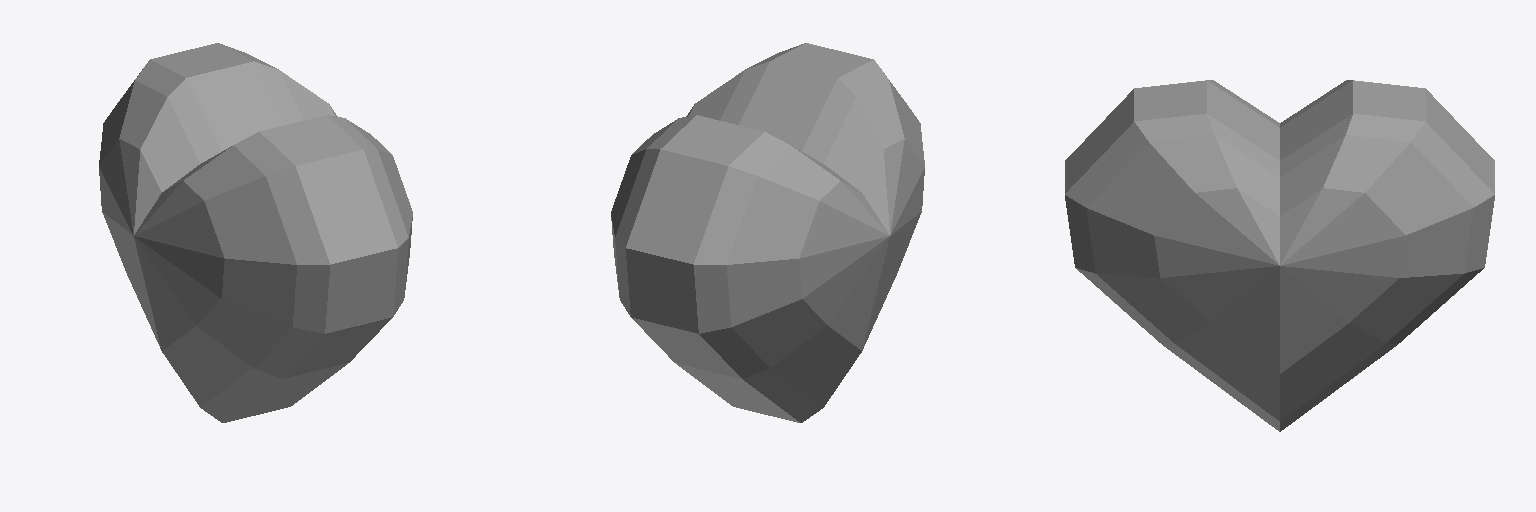
The model's file is Heart.obj.
The picture shows the model from 3 angles: view 1: azimuth 30°, elevation 25°; view 2: azimuth 150°, elevation 25°; view 3: azimuth 270°, elevation 25°; orthographic projection.
Visible parts, largest first — view 1: Cylinder.001_Cylinder.003; view 2: Cylinder.001_Cylinder.003; view 3: Cylinder.001_Cylinder.003.
Part boxes in pixels (x1,y1,x2,y2): Cylinder.001_Cylinder.003: (99,43,412,422); Cylinder.001_Cylinder.003: (611,43,924,422); Cylinder.001_Cylinder.003: (1065,80,1494,431).
Bounding box in the file's own units: 1.15 × 1.43 × 1.75.